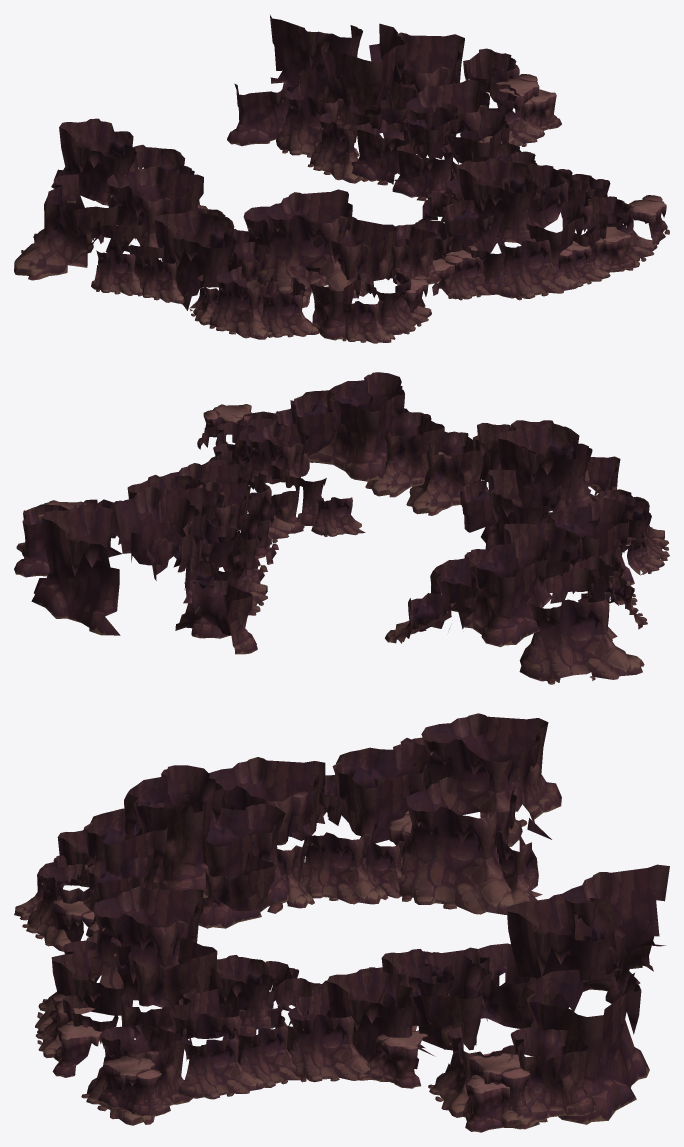
The model's file is area2_shiqiang_02.FBX.
3 renders of one model, top to bottom at view 1: azimuth 30°, elevation 25°; view 2: azimuth 150°, elevation 25°; view 3: azimuth 270°, elevation 25°, orthographic. The views are drawn at different scales.
Parts seen in each view (by area): view 1: area2_shiqiang_02; view 2: area2_shiqiang_02; view 3: area2_shiqiang_02.
Boxes of the visible parts, x1,y1,x2,y2 form: area2_shiqiang_02: [14, 15, 669, 343]; area2_shiqiang_02: [14, 372, 669, 684]; area2_shiqiang_02: [14, 713, 669, 1132].
Size of the model in its own units: 12330 by 2525 by 9858.
